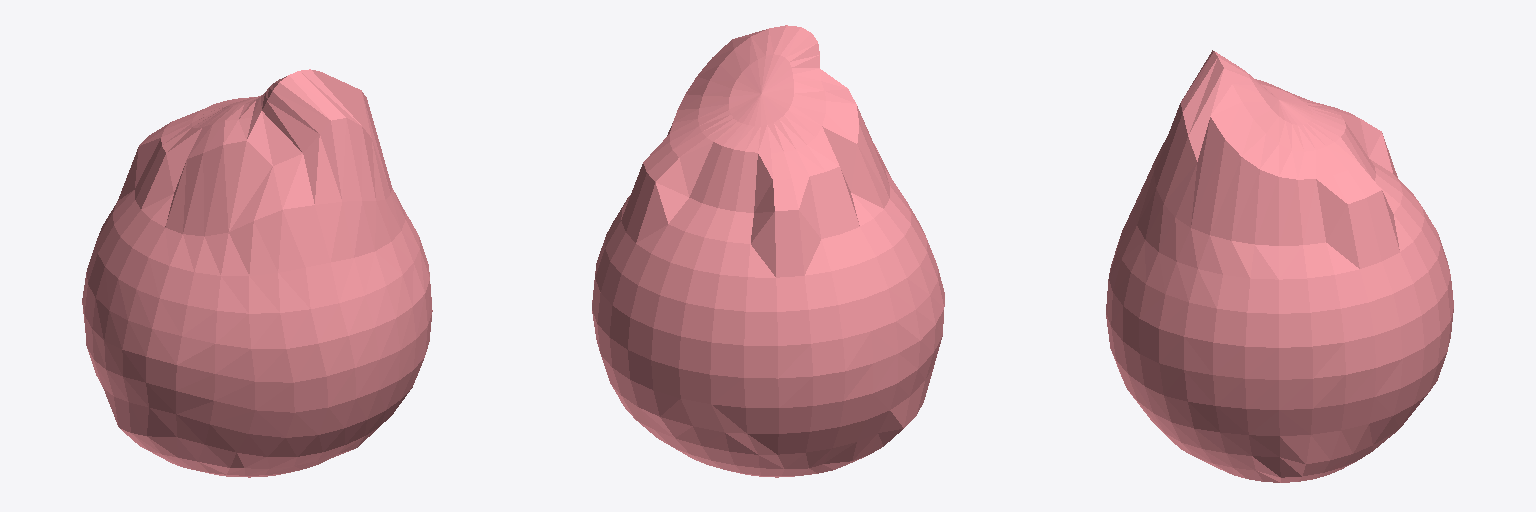
3 renders of one model, left to right at view 1: azimuth 30°, elevation 25°; view 2: azimuth 150°, elevation 25°; view 3: azimuth 270°, elevation 25°, orthographic.
Parts seen in each view (by area): view 1: 球; view 2: 球; view 3: 球.
Boxes of the visible parts, <box> form: 球: <box>82,69,432,477</box>; 球: <box>592,25,944,477</box>; 球: <box>1106,50,1453,482</box>.
Size of the model in its own units: 2 by 2.58 by 1.99.
Materials: 1 (1 with a texture image).